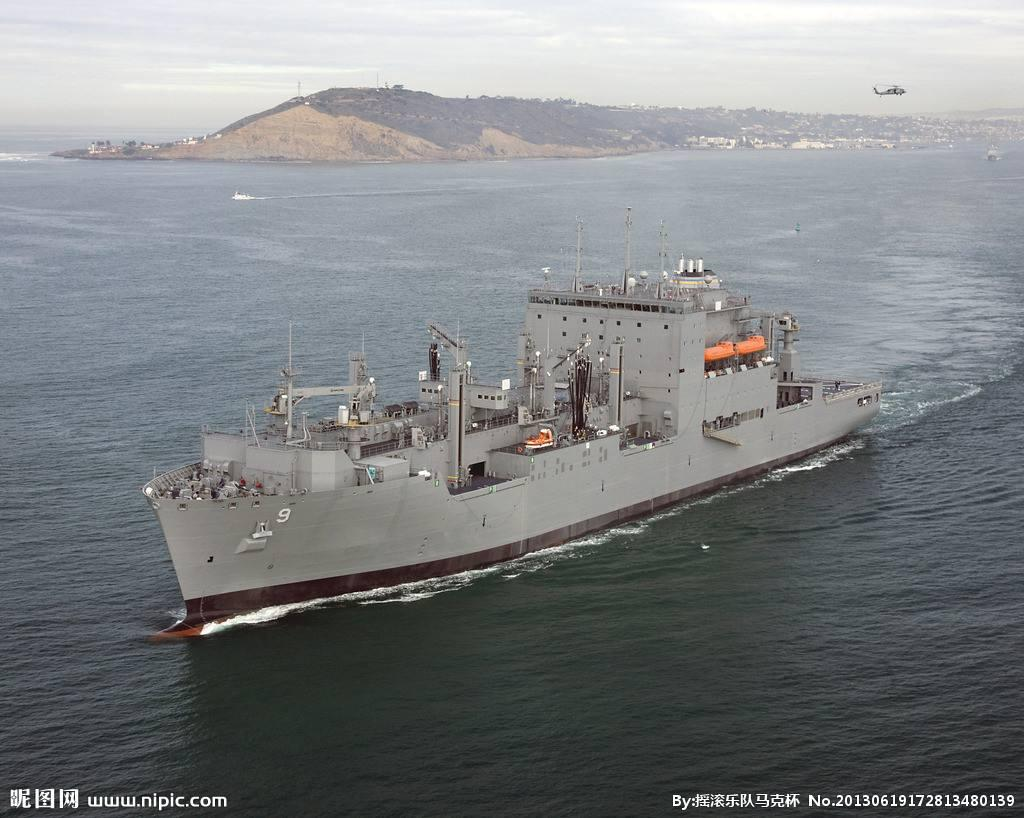airplane: (865, 75, 919, 102)
warship: (129, 220, 887, 623)
